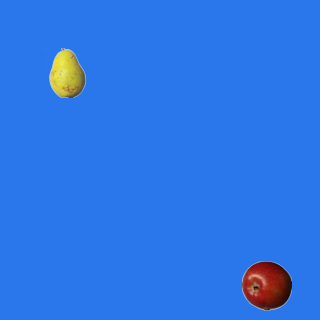Apple Braeburn: (241, 260, 291, 310)
Pear Monster: (42, 47, 92, 97)
